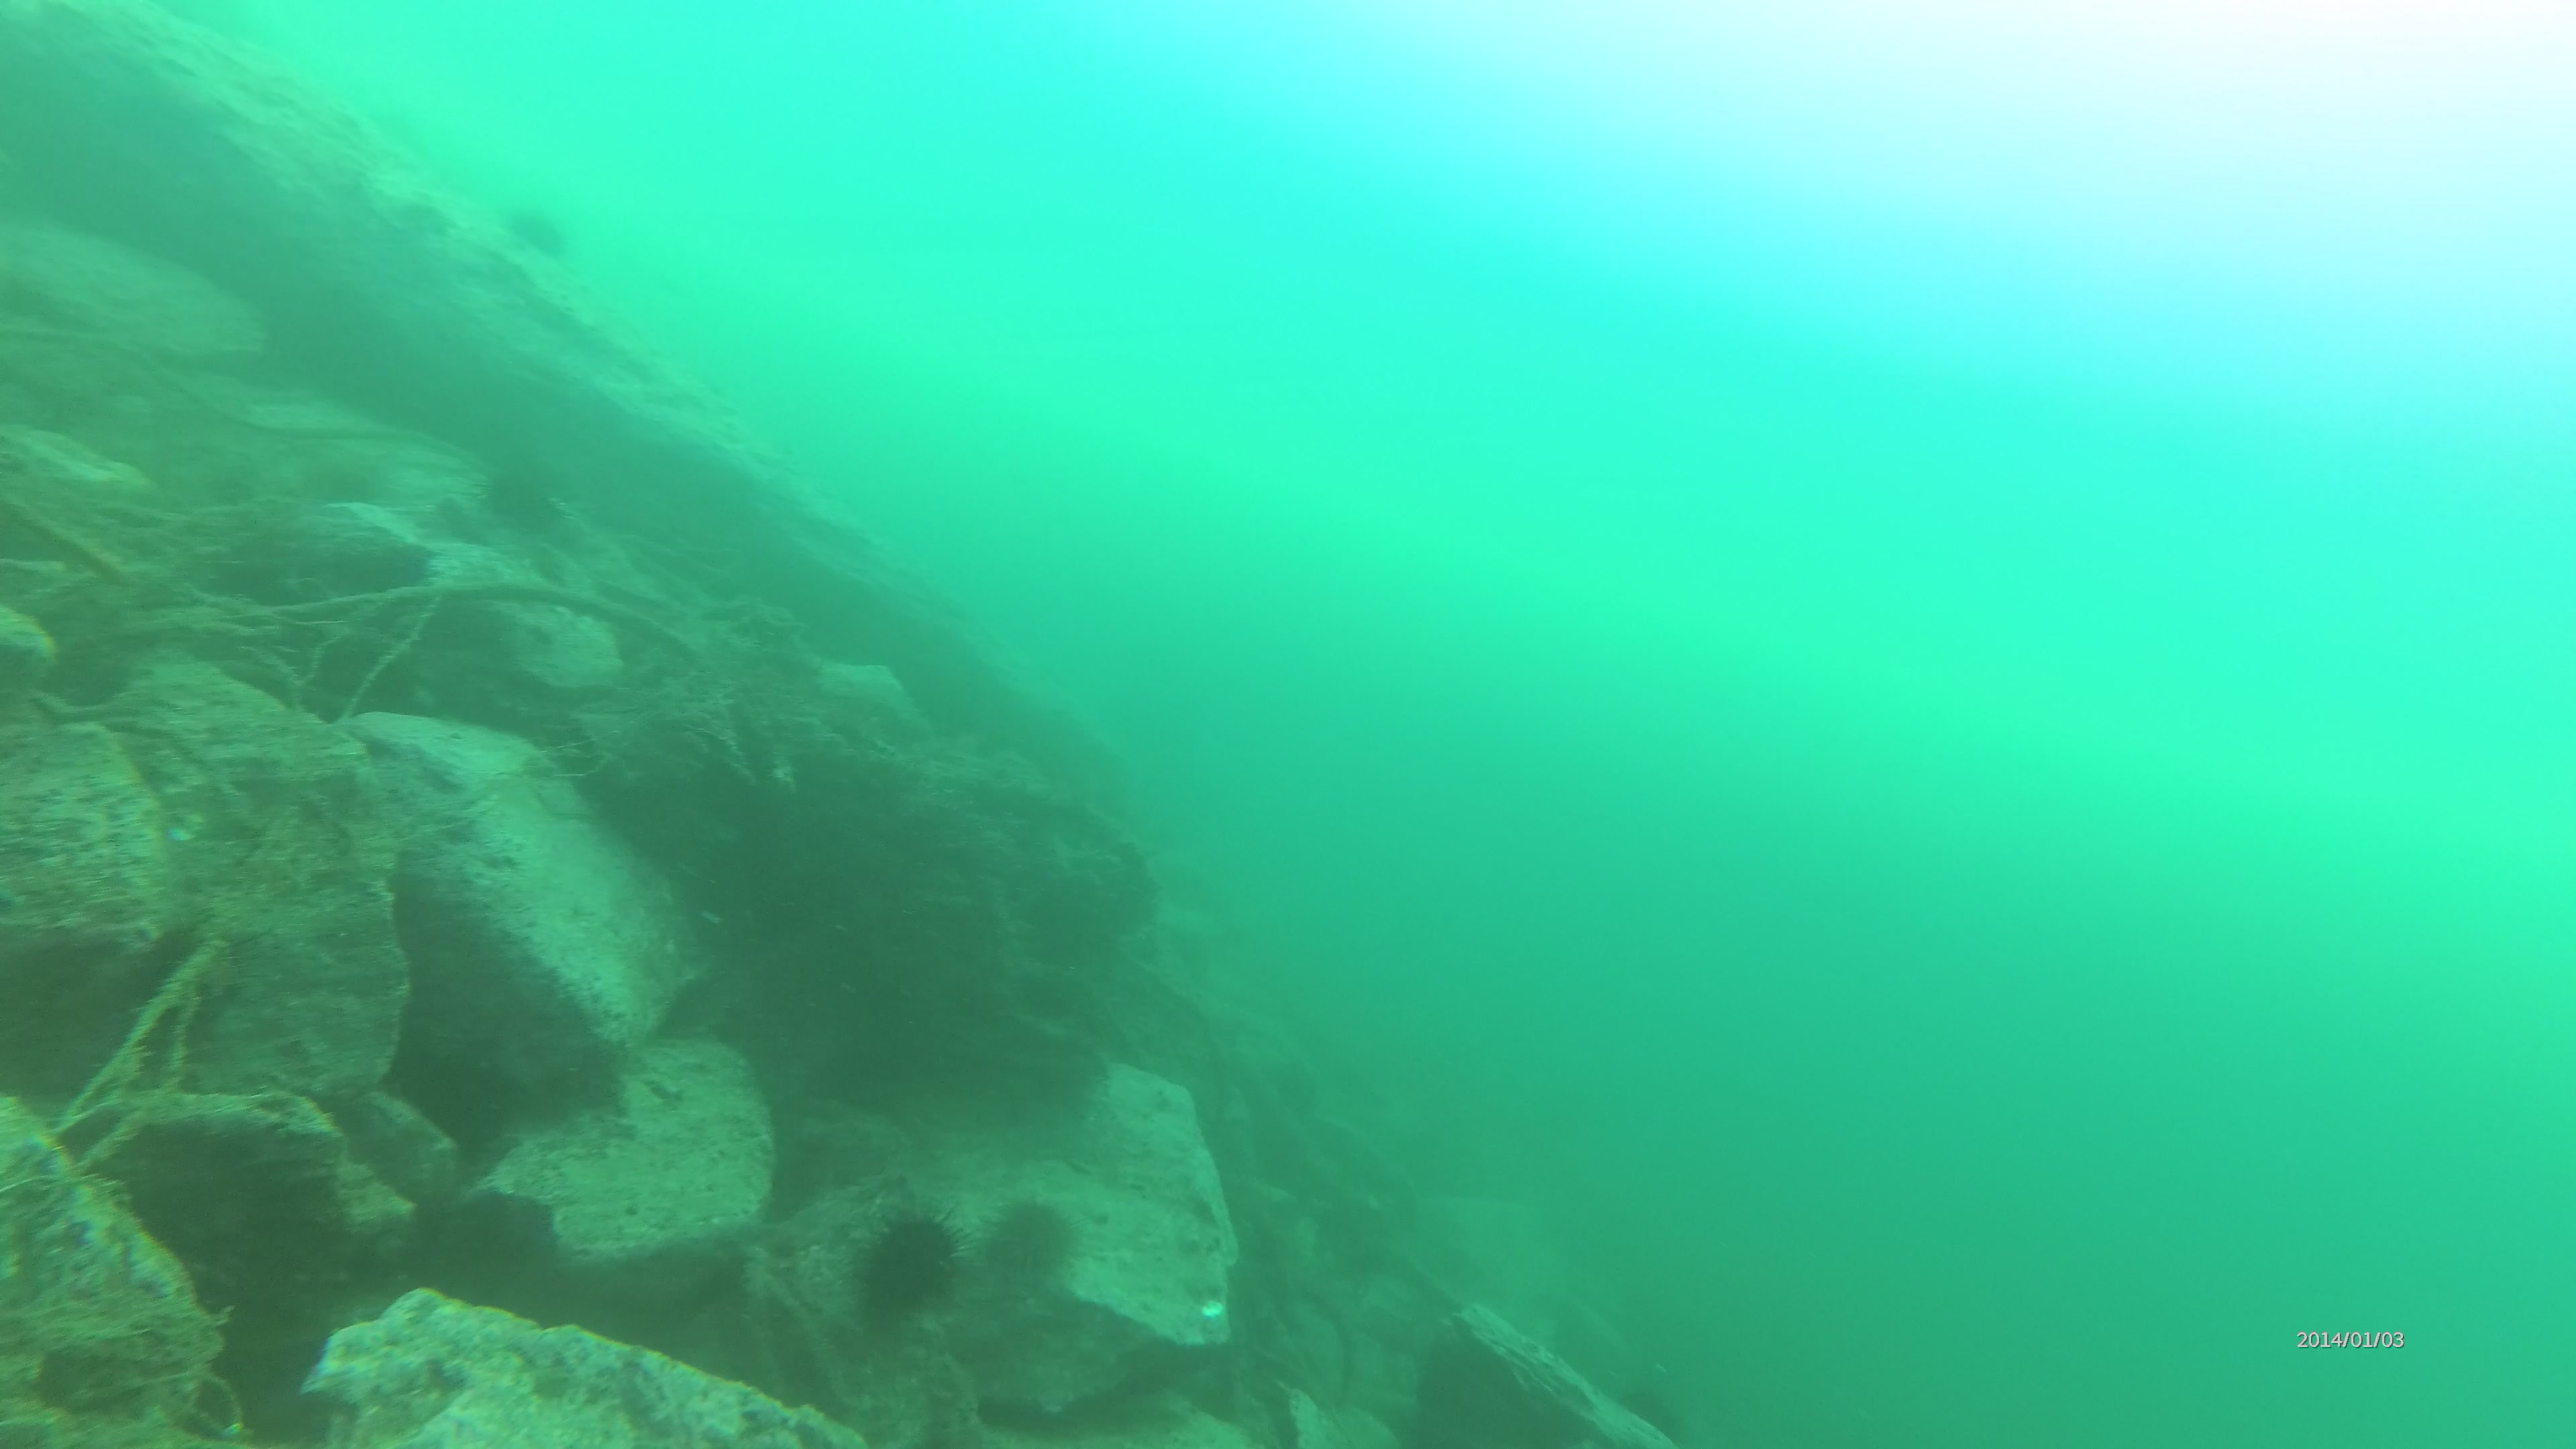echinus: (849, 1189, 968, 1339), (978, 1182, 1085, 1292), (1610, 1373, 1704, 1449), (478, 460, 566, 538), (502, 202, 582, 272)
